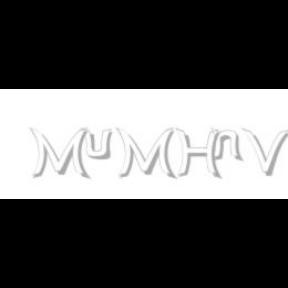H: (175, 128, 221, 180)
M: (115, 128, 174, 180), (30, 128, 88, 180)
V: (242, 128, 288, 176)
n: (210, 128, 244, 162)
u: (82, 128, 116, 160)
